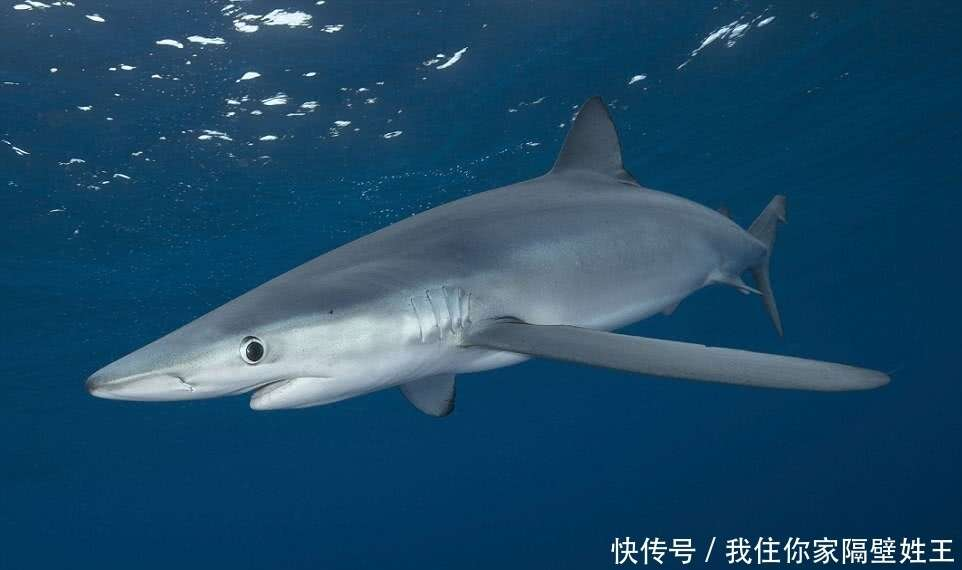shark: (74, 91, 908, 456)
